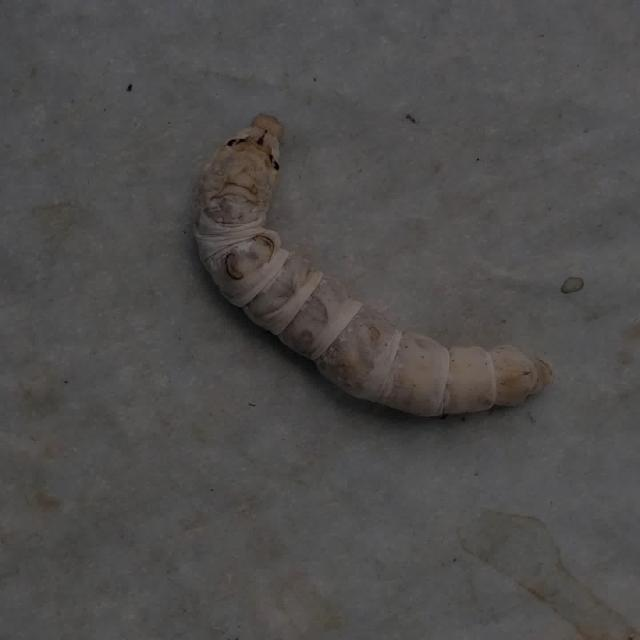Grasserie: (179, 80, 584, 460)
